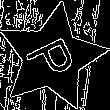P_NE: (21, 29, 83, 86)
